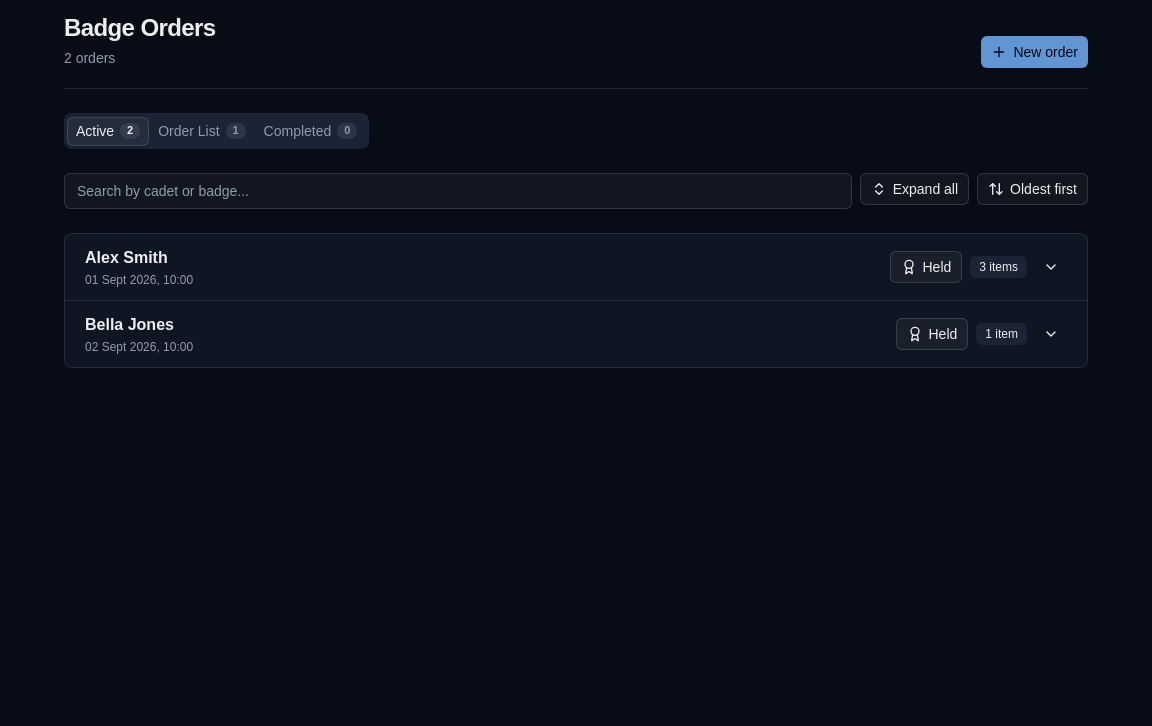
the order list › a note added on the list is saved on the badge's order
Check: the link "Alex Smith" is shown, box [85,246,168,270]
Click the tab "Order List 1".
click(202, 131)  # box [149,116,255,146]
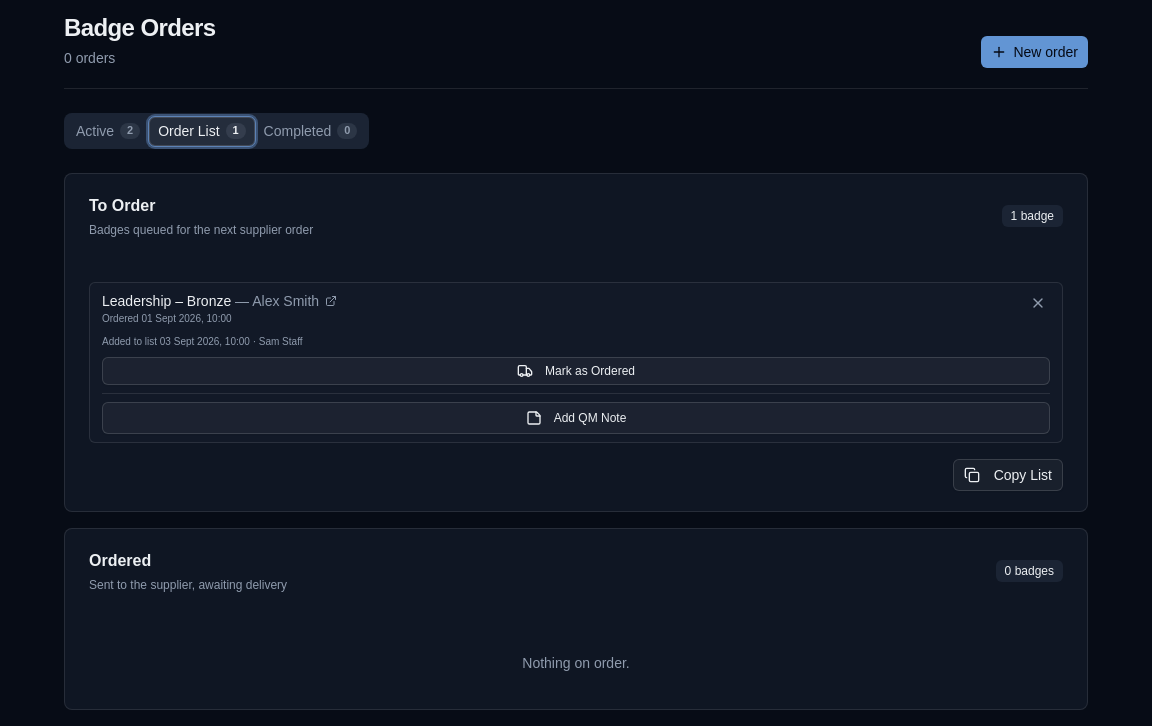
Click the button "Add QM Note".
click(576, 418)  # box [102,402,1050,434]
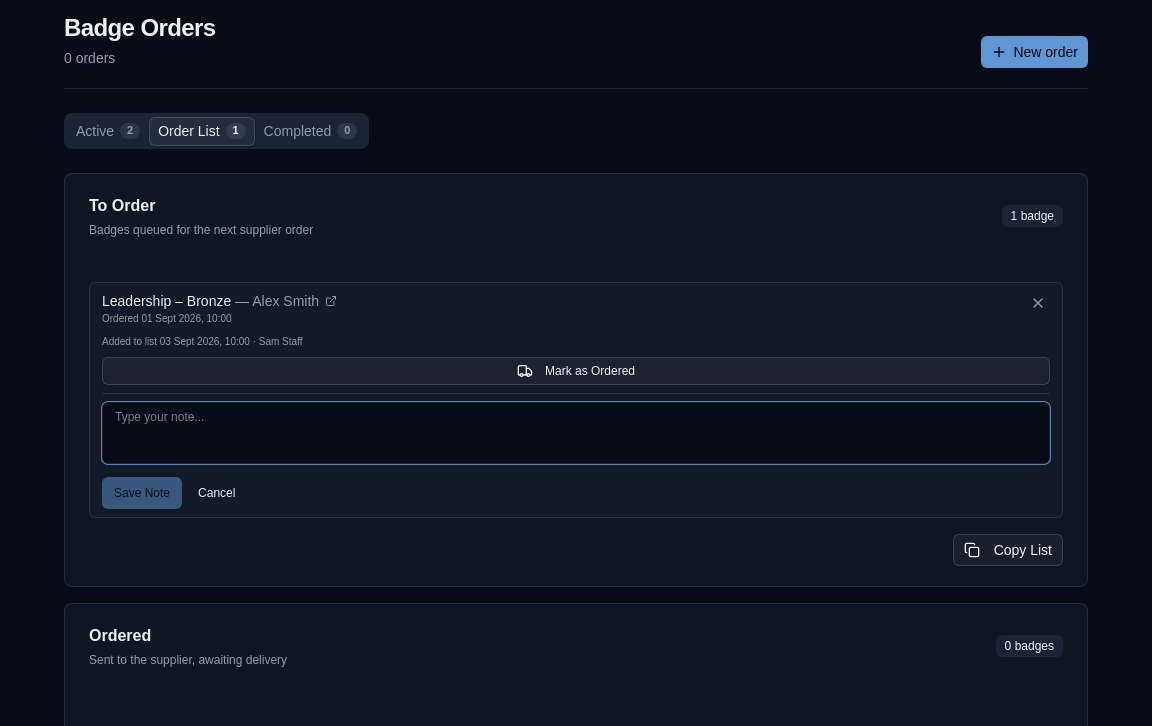
Type "Wing out of stock" into the text box named "QM note on Leadership – Bronze".
click(576, 433); type("Wing out of stock")  # box [102,402,1050,464]
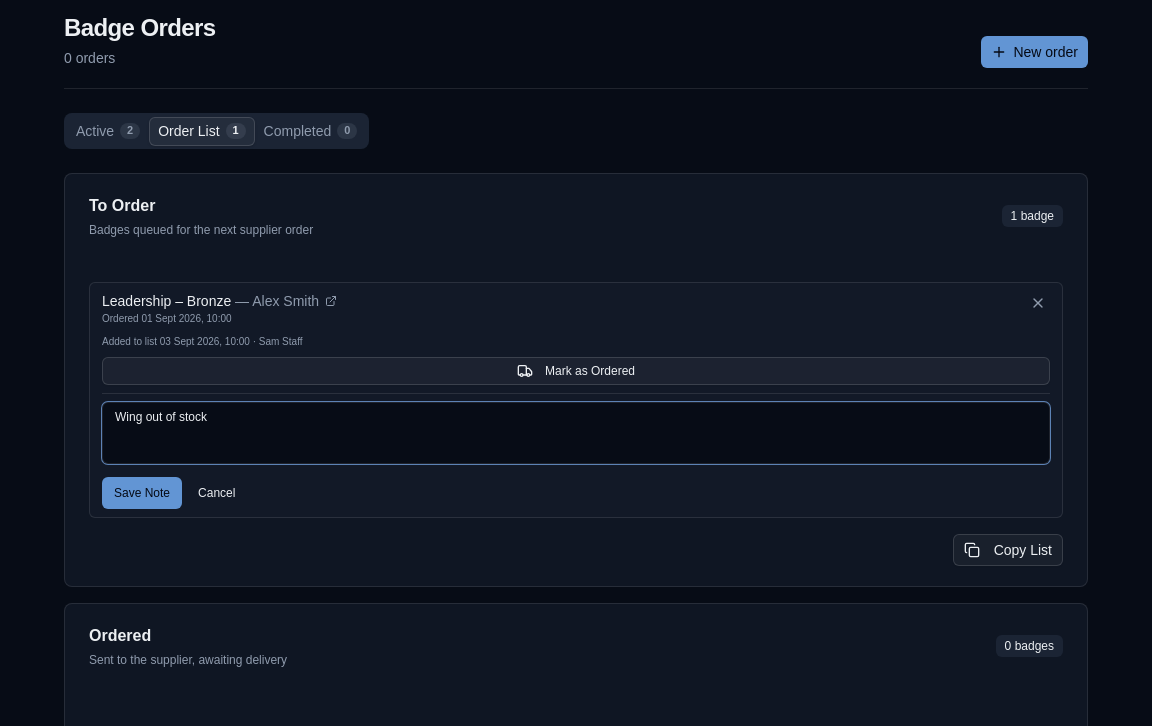
Click the button "Save Note".
click(142, 493)  # box [102,477,182,509]
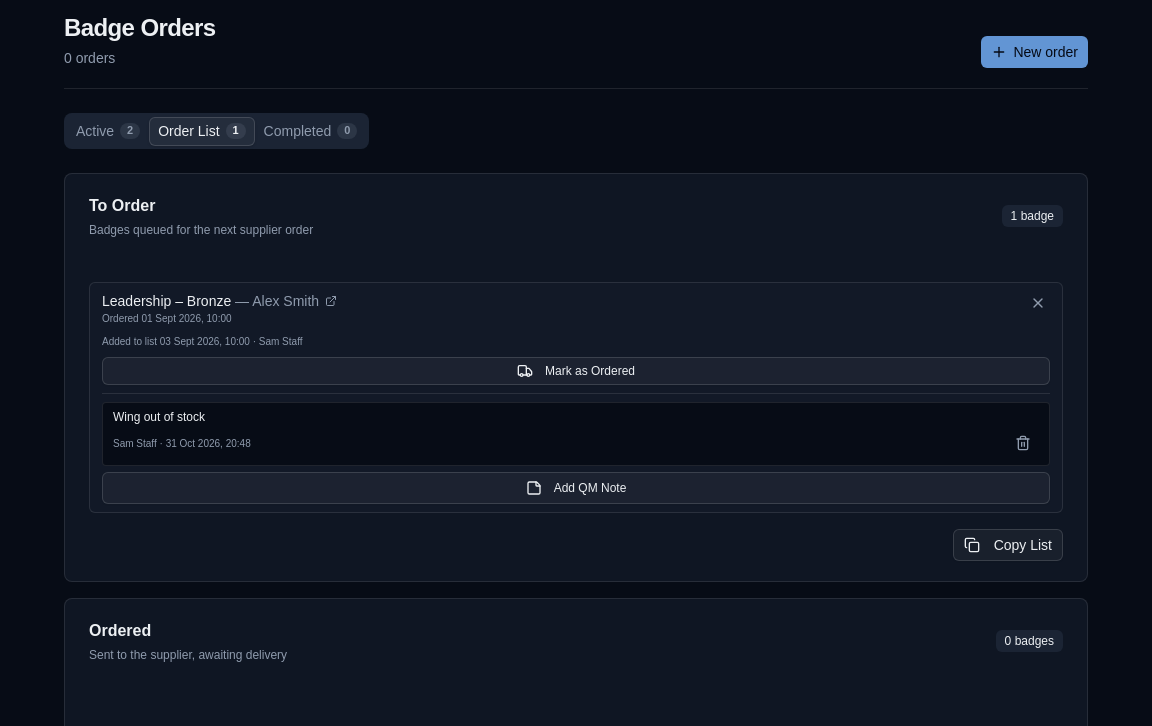
Check: the text "Wing out of stock" is shown, box [113,410,205,424]
